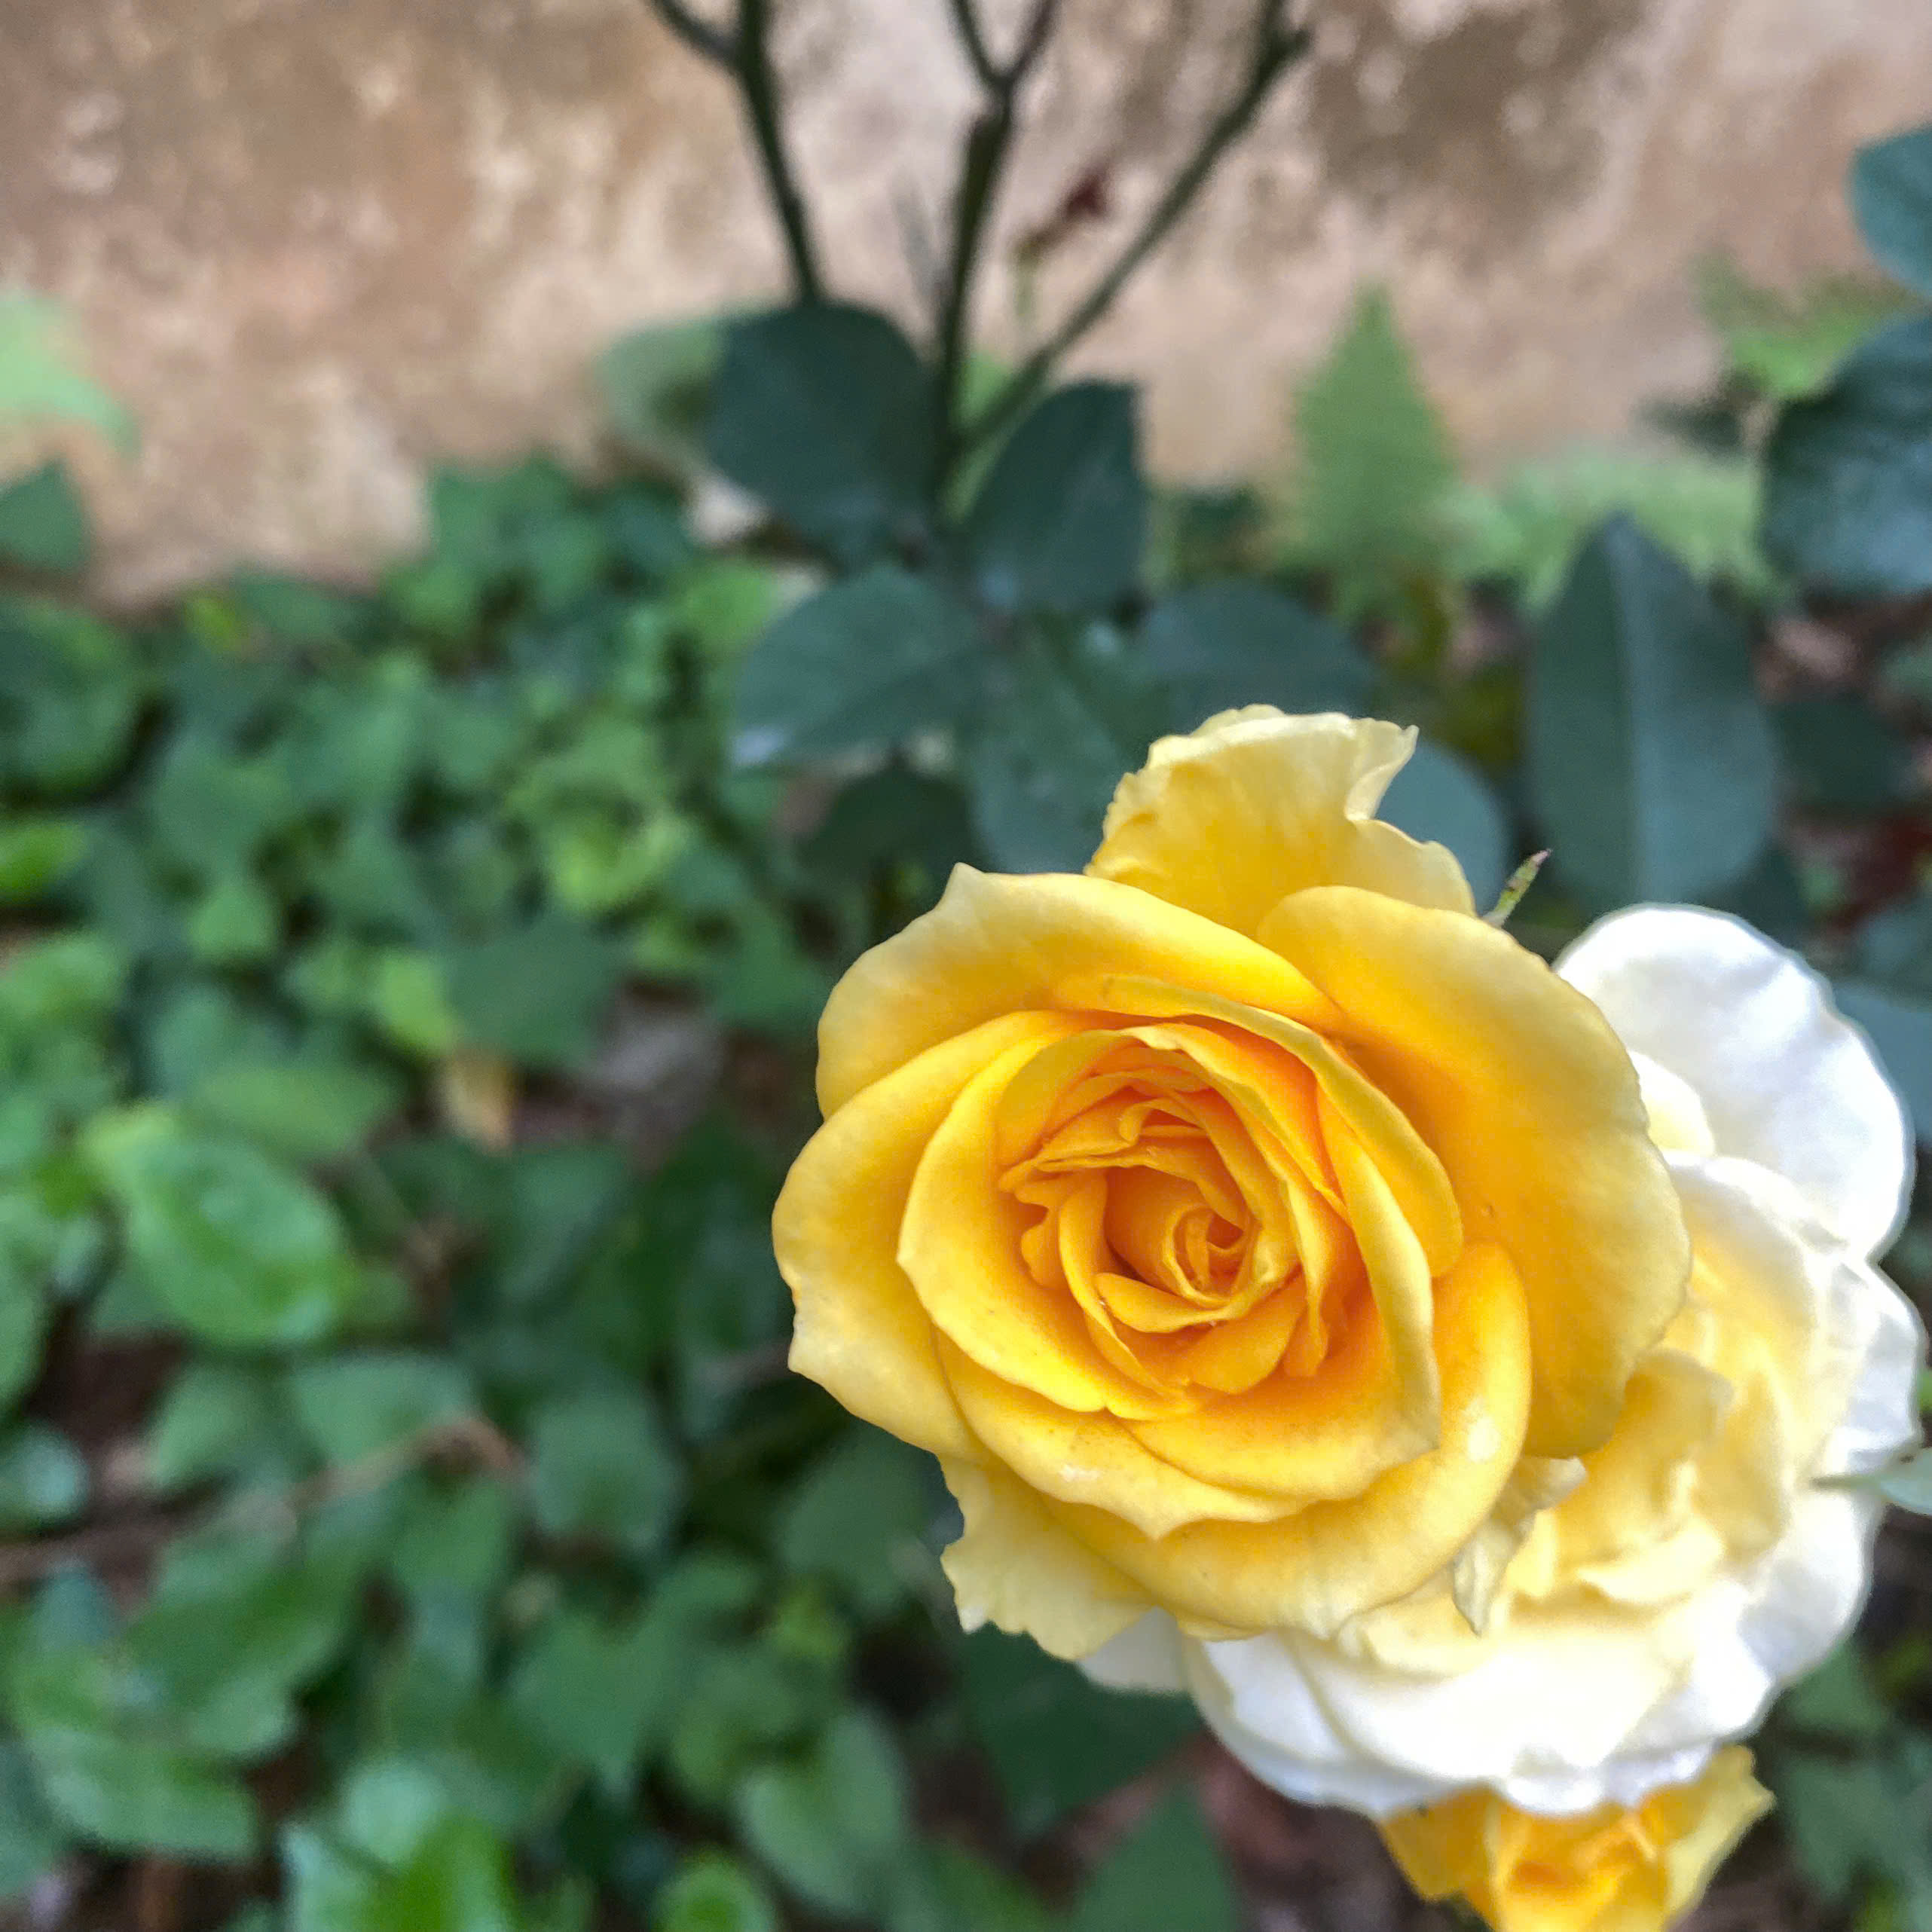hoa_thuoc_duoc: (741, 644, 1927, 1932)
